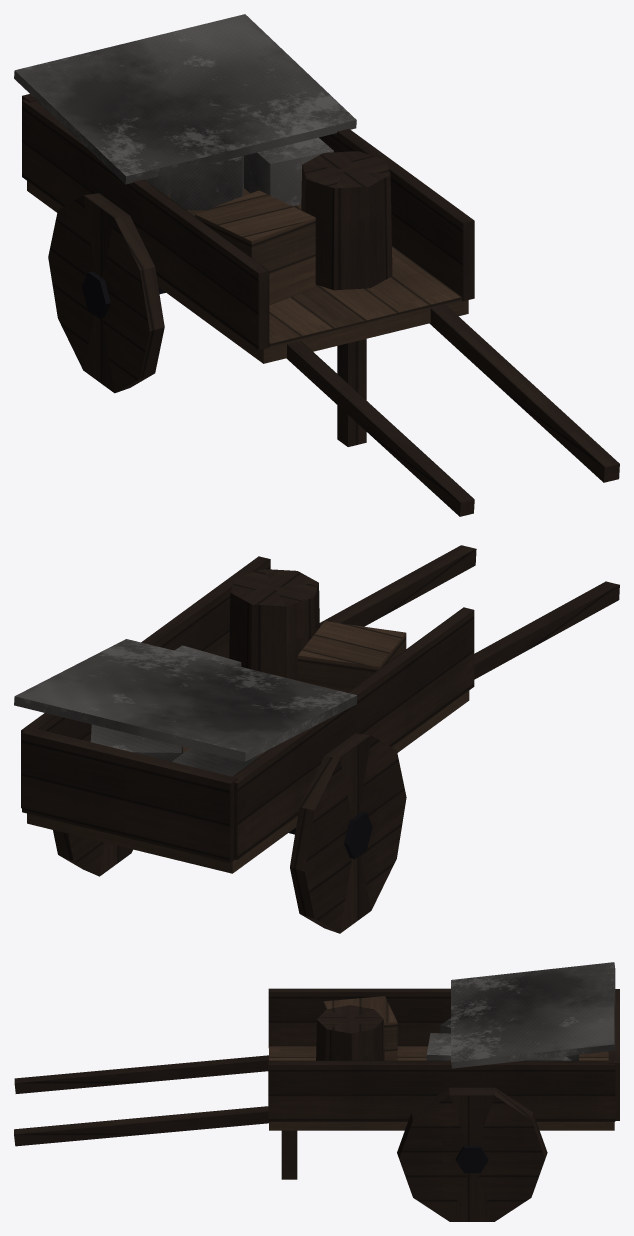
File: Carreta.gltf
3 views of the same model, one above another, from view 1: azimuth 30°, elevation 25°; view 2: azimuth 150°, elevation 25°; view 3: azimuth 270°, elevation 25° (orthographic). The views are drawn at different scales.
Parts seen in each view (by area): view 1: Carreta; view 2: Carreta; view 3: Carreta.
Part boxes in pixels (x1,y1,x2,y2): Carreta: [14, 14, 619, 516]; Carreta: [14, 545, 619, 933]; Carreta: [14, 962, 619, 1221].
Bounding box in the file's own units: 2.22 × 1.9 × 5.97.
Materials: 4 (3 with a texture image).
